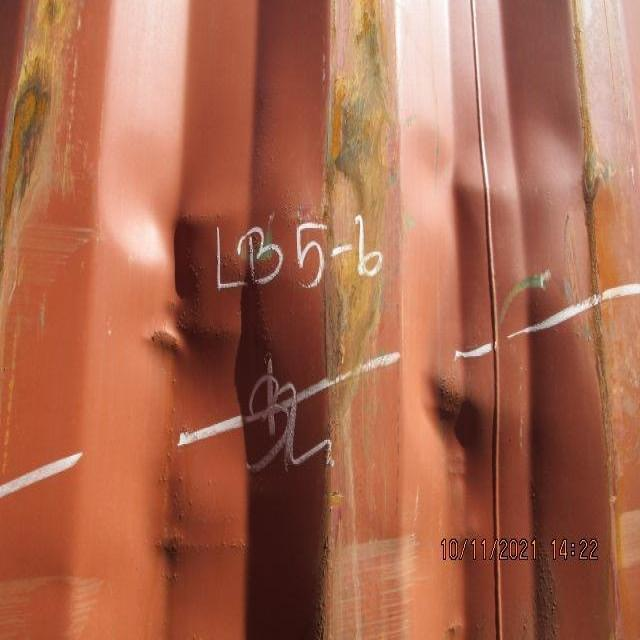Dent: (76, 90, 628, 542)
